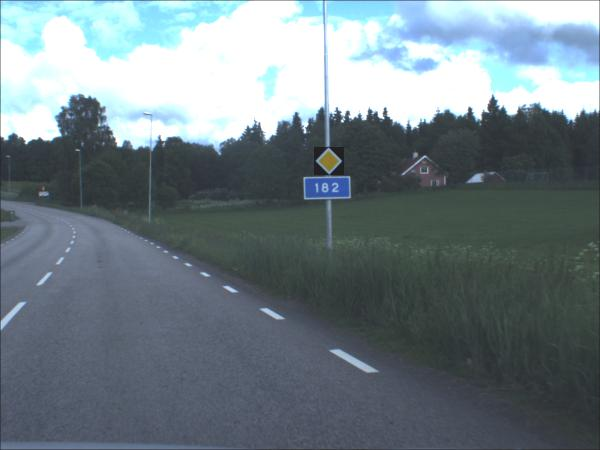80_SIGN: (42, 188, 48, 193)
PRIORITY_ROAD: (315, 148, 346, 177)
